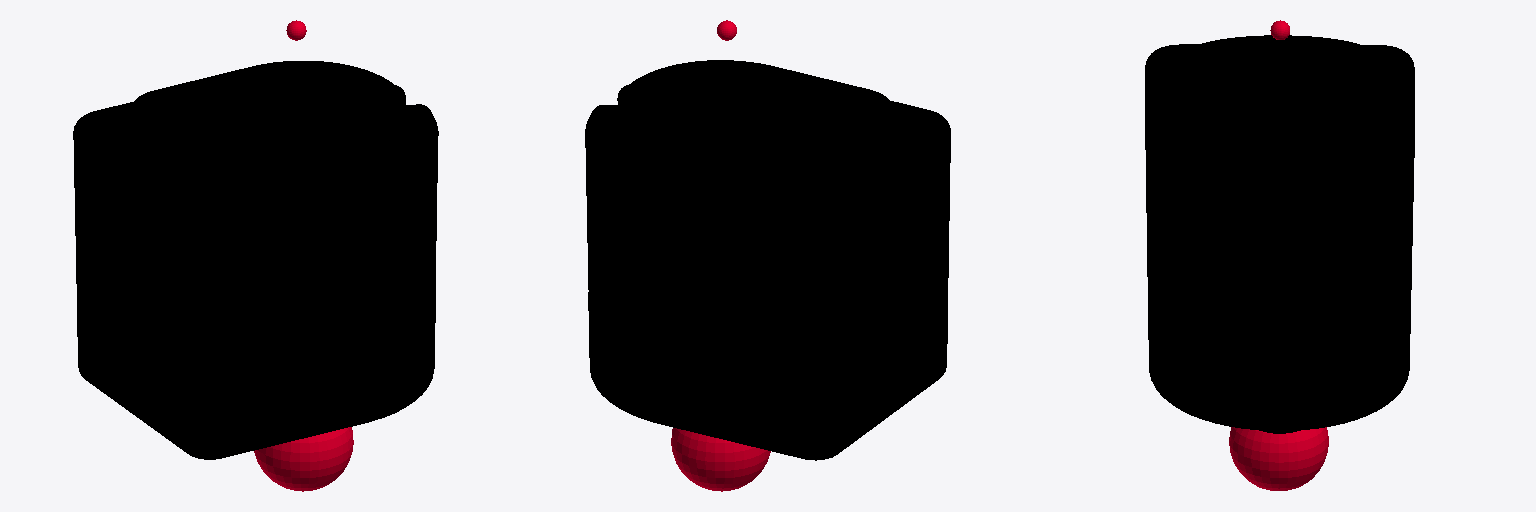
The robot description file, URDF, robot "lbr_iiwa":
<?xml version="1.0" ?>
<!-- ======================================================================= -->
<!-- | This document was autogenerated by xacro from lbr_iiwa.urdf.xacro   | -->
<!-- | Original xacro: https://github.com/rtkg/lbr_iiwa/archive/master.zip | -->
<!-- | EDITING THIS FILE BY HAND IS NOT RECOMMENDED                        | -->
<!-- | Changes ([author]):                                                 | -->
<!-- |   * Removed gazebo tags.                                            | -->
<!-- |   * Removed unused materials.                                       | -->
<!-- |   * Made mesh paths relative.                                       | -->
<!-- |   * Removed material fields from collision segments.                | -->
<!-- |   * Removed the self_collision_checking segment.                    | -->
<!-- |   * Removed transmission segments, since they didn't match the      | -->
<!-- |     convention, will have to added back later.                      | -->
<!-- ======================================================================= -->
<!--LICENSE:                                                                 -->
<!--Copyright (c) 2015, [author] & [author], AASS Research Center,  -->
<!--Orebro University, Sweden                                                -->
<!--All rights reserved.                                                     -->
<!--                                                                         -->
<!--Redistribution and use in source and binary forms, with or without       -->
<!--modification, are permitted provided that the following conditions are   -->
<!--met:                                                                     -->
<!--                                                                         -->
<!--1. Redistributions of source code must retain the above copyright notice,-->
<!--   this list of conditions and the following disclaimer.                 -->
<!--                                                                         -->
<!--2. Redistributions in binary form must reproduce the above copyright     -->
<!--   notice, this list of conditions and the following disclaimer in the   -->
<!--   documentation and/or other materials provided with the distribution.  -->
<!--                                                                         -->
<!--THIS SOFTWARE IS PROVIDED BY THE COPYRIGHT [author] "AS  -->
<!--IS" AND ANY EXPRESS OR IMPLIED WARRANTIES, INCLUDING, BUT NOT LIMITED TO,-->
<!--THE IMPLIED WARRANTIES OF MERCHANTABILITY AND FITNESS FOR A PARTICULAR   -->
<!--PURPOSE ARE DISCLAIMED. IN NO EVENT SHALL THE COPYRIGHT [author]        -->
<!--CONTRIBUTORS BE LIABLE FOR ANY DIRECT, INDIRECT, INCIDENTAL, SPECIAL,    -->
<!--EXEMPLARY, OR CONSEQUENTIAL DAMAGES (INCLUDING, BUT NOT LIMITED TO,      -->
<!--PROCUREMENT OF SUBSTITUTE GOODS OR SERVICES; LOSS OF USE, DATA, OR       -->
<!--PROFITS; OR BUSINESS INTERRUPTION) HOWEVER CAUSED AND ON ANY THEORY OF   -->
<!--LIABILITY, WHETHER IN CONTRACT, STRICT LIABILITY, OR TORT (INCLUDING     -->
<!--NEGLIGENCE OR OTHERWISE) ARISING IN ANY WAY OUT OF THE USE OF THIS       -->
<!--SOFTWARE, EVEN IF ADVISED OF THE POSSIBILITY OF SUCH DAMAGE.             -->

<robot name="lbr_iiwa" xmlns:xacro="http://www.ros.org/wiki/xacro">

  <!-- Import Rviz colors -->
  <material name="Grey">
    <color rgba="0.2 0.2 0.2 1.0"/>
  </material>
  <material name="Orange">
    <color rgba="1.0 0.423529411765 0.0392156862745 1.0"/>
  </material>
  <material name="Blue">
  <color rgba="0.5 0.7 1.0 1.0"/>
</material>
<material name="TransparentRed">
  <color rgba="0.9 0 0.2 0.5"/>
</material>

<link name="world"/>
<joint name="world_joint" type="fixed">
  <parent link="world"/>
  <child link="base_link"/>
  <origin rpy="0.0 0.0 0.0" xyz="0.0 0.0 0.0"/>
</joint>


  <link name="base_link">
    <inertial>
      <origin rpy="0 0 0" xyz="-0.1 0 0.07"/>
      <mass value="0.0"/>
      <inertia ixx="0.05" ixy="0" ixz="0" iyy="0.06" iyz="0" izz="0.03"/>
    </inertial>
    <visual>
      <origin rpy="0 0 0" xyz="0 0 0"/>
      <geometry>
        <mesh filename="meshes/link_0.obj"/>
      </geometry>
      <material name="Grey"/>
    </visual>
    <collision>
      <origin rpy="0 0 0" xyz="0 0 0"/>
      <geometry>
        <mesh filename="meshes/link_0.stl"/>
      </geometry>
    </collision>
  </link>

  <!-- joint between link_0 and link_1 -->
  <joint name="lbr_iiwa_joint_1" type="revolute">
    <parent link="base_link"/>
    <child link="lbr_iiwa_link_1"/>
    <origin rpy="0 0 0" xyz="0 0 0.1575"/>
    <axis xyz="0 0 1"/>
    <limit effort="300" lower="-100" upper="100" velocity="10"/>
    <dynamics damping="0.5"/>
  </joint>

  <link name="lbr_iiwa_link_1">
    <inertial>
      <origin rpy="0 0 0" xyz="0 -0.03 0.12"/>
      <mass value="4"/>
      <inertia ixx="0.1" ixy="0" ixz="0" iyy="0.09" iyz="0" izz="0.02"/>
    </inertial>
    <visual>
      <origin rpy="0 0 0" xyz="0 0 0"/>
      <geometry>
        <mesh filename="meshes/link_1.obj"/>
      </geometry>
      <material name="Blue"/>
    </visual>
    <collision>
      <origin rpy="0 0 0" xyz="0 0 0"/>
      <geometry>
        <mesh filename="meshes/link_1.stl"/>
      </geometry>
    </collision>
  </link>

  <!-- joint between link_1 and link_2 -->
  <joint name="lbr_iiwa_joint_2" type="revolute">
    <parent link="lbr_iiwa_link_1"/>
    <child link="lbr_iiwa_link_2"/>
    <origin rpy="1.57079632679   0 3.14159265359" xyz="0 0 0.2025"/>
    <axis xyz="0 0 1"/>
    <limit effort="300" lower="-100" upper="100" velocity="10"/>
    <dynamics damping="0.5"/>
  </joint>

  <link name="lbr_iiwa_link_2">
    <inertial>
      <origin rpy="0 0 0" xyz="0.0003 0.059 0.042"/>
      <mass value="4"/>
      <inertia ixx="0.05" ixy="0" ixz="0" iyy="0.018" iyz="0" izz="0.044"/>
    </inertial>
    <visual>
      <origin rpy="0 0 0" xyz="0 0 0"/>
      <geometry>
        <mesh filename="meshes/link_2.obj"/>
      </geometry>
      <material name="Blue"/>
    </visual>
    <collision>
      <origin rpy="0 0 0" xyz="0 0 0"/>
      <geometry>
        <mesh filename="meshes/link_2.stl"/>
      </geometry>
    </collision>
  </link>

  <!-- joint between link_2 and link_3 -->
  <joint name="lbr_iiwa_joint_3" type="revolute">
    <parent link="lbr_iiwa_link_2"/>
    <child link="lbr_iiwa_link_3"/>
    <origin rpy="1.57079632679 0 3.14159265359" xyz="0 0.2045 0"/>
    <axis xyz="0 0 1"/>
    <limit effort="300" lower="-100" upper="100" velocity="10"/>
    <dynamics damping="0.5"/>
  </joint>

  <link name="lbr_iiwa_link_3">
    <inertial>
      <origin rpy="0 0 0" xyz="0 0.03 0.13"/>
      <mass value="3"/>
      <inertia ixx="0.08" ixy="0" ixz="0" iyy="0.075" iyz="0" izz="0.01"/>
    </inertial>
    <visual>
      <origin rpy="0 0 0" xyz="0 0 0"/>
      <geometry>
        <mesh filename="meshes/link_3.obj"/>
      </geometry>
      <material name="Orange"/>
    </visual>
    <collision>
      <origin rpy="0 0 0" xyz="0 0 0"/>
      <geometry>
        <mesh filename="meshes/link_3.stl"/>
      </geometry>
    </collision>
  </link>

  <!-- joint between link_3 and link_4 -->
  <joint name="lbr_iiwa_joint_4" type="revolute">
    <parent link="lbr_iiwa_link_3"/>
    <child link="lbr_iiwa_link_4"/>
    <origin rpy="1.57079632679 0 0" xyz="0 0 0.2155"/>
    <axis xyz="0 0 1"/>
    <limit effort="300" lower="-100" upper="100" velocity="10"/>
    <dynamics damping="0.5"/>
  </joint>

  <link name="lbr_iiwa_link_4">
    <inertial>
      <origin rpy="0 0 0" xyz="0 0.067 0.034"/>
      <mass value="2.7"/>
      <inertia ixx="0.03" ixy="0" ixz="0" iyy="0.01" iyz="0" izz="0.029"/>
    </inertial>
    <visual>
      <origin rpy="0 0 0" xyz="0 0 0"/>
      <geometry>
        <mesh filename="meshes/link_4.obj"/>
      </geometry>
      <material name="Blue"/>
    </visual>
    <collision>
      <origin rpy="0 0 0" xyz="0 0 0"/>
      <geometry>
        <mesh filename="meshes/link_4.stl"/>
      </geometry>
    </collision>
  </link>

  <!-- joint between link_4 and link_5 -->
  <joint name="lbr_iiwa_joint_5" type="revolute">
    <parent link="lbr_iiwa_link_4"/>
    <child link="lbr_iiwa_link_5"/>
    <origin rpy="-1.57079632679 3.14159265359 0" xyz="0 0.1845 0"/>
    <axis xyz="0 0 1"/>
    <limit effort="300" lower="-100" upper="100" velocity="10"/>
    <dynamics damping="0.5"/>
  </joint>

  <link name="lbr_iiwa_link_5">
    <inertial>
      <origin rpy="0 0 0" xyz="0.0001 0.021 0.076"/>
      <mass value="1.7"/>
      <inertia ixx="0.02" ixy="0" ixz="0" iyy="0.018" iyz="0" izz="0.005"/>
    </inertial>
    <visual>
      <origin rpy="0 0 0" xyz="0 0 0"/>
      <geometry>
        <mesh filename="meshes/link_5.obj"/>
      </geometry>
      <material name="Blue"/>
    </visual>
    <collision>
      <origin rpy="0 0 0" xyz="0 0 0"/>
      <geometry>
        <mesh filename="meshes/link_5.stl"/>
      </geometry>
    </collision>
  </link>

  <!-- joint between link_5 and link_6 -->
  <joint name="lbr_iiwa_joint_6" type="revolute">
    <parent link="lbr_iiwa_link_5"/>
    <child link="lbr_iiwa_link_6"/>
    <origin rpy="1.57079632679 0 0" xyz="0 0 0.2155"/>
    <axis xyz="0 0 1"/>
    <limit effort="300" lower="-100" upper="100" velocity="10"/>
    <dynamics damping="0.5"/>
  </joint>

  <link name="lbr_iiwa_link_6">
    <inertial>
      <origin rpy="0 0 0" xyz="0 0.0006 0.0004"/>
      <mass value="1.8"/>
      <inertia ixx="0.005" ixy="0" ixz="0" iyy="0.0036" iyz="0" izz="0.0047"/>
    </inertial>
    <visual>
      <origin rpy="0 0 0" xyz="0 0 0"/>
      <geometry>
        <mesh filename="meshes/link_6.obj"/>
      </geometry>
      <material name="Orange"/>
    </visual>
    <collision>
      <origin rpy="0 0 0" xyz="0 0 0"/>
      <geometry>
        <mesh filename="meshes/link_6.stl"/>
      </geometry>
    </collision>
  </link>

  <!-- joint between link_6 and link_7 -->
  <joint name="lbr_iiwa_joint_7" type="revolute">
    <parent link="lbr_iiwa_link_6"/>
    <child link="lbr_iiwa_link_7"/>
    <origin rpy="-1.57079632679 3.14159265359 0" xyz="0 0.081 0"/>
    <axis xyz="0 0 1"/>
    <limit effort="300" lower="-100" upper="100" velocity="10"/>
    <dynamics damping="0.5"/>
  </joint>

  <link name="lbr_iiwa_link_7">
    <inertial>
      <origin rpy="0 0 0" xyz="0 0 0.02"/>
      <mass value="0.3"/>
      <inertia ixx="0.001" ixy="0" ixz="0" iyy="0.001" iyz="0" izz="0.001"/>
    </inertial>
    <visual>
      <origin rpy="0 0 0" xyz="0 0 0"/>
      <geometry>
        <mesh filename="meshes/link_7.obj"/>
      </geometry>
      <material name="Grey"/>
    </visual>
    <collision>
      <origin rpy="0 0 0" xyz="0 0 0"/>
      <geometry>
        <mesh filename="meshes/link_7.stl"/>
      </geometry>
    </collision>
  </link>


  <!-- End Effector -->

  <joint name="ee_joint" type="fixed">
    <parent link="lbr_iiwa_link_7"/>
    <child link="ee_link"/>
    <origin rpy="3.14 0.0 0.0" xyz="0.0 0.0 0.04"/>
  </joint>

  <link name="ee_link">
    <visual>
      <origin rpy="0 0 0" xyz="0 0 0"/>
      <geometry>
        <sphere radius="0.005"/>
      </geometry>
       <material name="TransparentRed"/>
    </visual>
    <collision>
      <geometry>
        <sphere radius="0.001"/>
      </geometry>
      <origin rpy="0 0 0" xyz="0.0 0 0"/>
    </collision>
    <inertial>
      <mass value="0.0"/>
      <origin rpy="-3.14 0.0 1.57" xyz="0.0 0.0 0.0"/>
      <inertia ixx="0.001" ixy="0.0" ixz="0.0" iyy="0.001" iyz="0.0" izz="0.001"/>
    </inertial>
  </link>

  <!-- DigiTac -->
  <link
    name="digitac_body_link">
  <inertial>
      <origin
        xyz="0.0044483897843889 -0.0137570316187898 -1.33478473442024E-08+0.035"
        rpy="0 0 0" />
      <mass
        value="0.00791827593084163" />
      <inertia
        ixx="7.86145751817283E-07"
        ixy="-4.85149902505629E-09"
        ixz="4.89421524982813E-12"
        iyy="1.59818901807298E-06"
        iyz="-2.18755873901251E-12"
        izz="1.06961344577448E-06" />
    </inertial>
    <visual>
      <origin
        xyz="0 0 0.035"
        rpy="0 0 0" />
      <geometry>
        <mesh
          filename="../digitac/standard_digitac/digitac_asmb/meshes/digitac_body.STL" />
      </geometry>
      <material
        name="body color">
        <color
          rgba="0.0 0.0 0.0 1" />
      </material>
    </visual>
    <collision>
      <origin
        xyz="0 0 0.035"
        rpy="0 0 0" />
      <geometry>
        <mesh
          filename="../digitac/standard_digitac/digitac_asmb/meshes/digitac_body.STL" />
      </geometry>
    </collision>
  </link>


  <joint name="digitac_ee_joint" type="fixed">
    <parent link="ee_link"/>
    <child link="digitac_body_link"/>
    <origin rpy="-3.14 0.0 3.14" xyz="0.0 0.0 0.0"/>
  </joint>


  <link
    name="digitac_tip_link">


        <inertial>
      <origin
        xyz="1.95689617055233E-05 -0.00418318281817305 -0.00513072481258713-0.035"
        rpy="0 0 0" />
      <mass
        value="0.000211579321175967" />
      <inertia
        ixx="1.6421406108058E-08"
        ixy="-3.59682768116548E-11"
        ixz="8.26721658003392E-12"
        iyy="1.10821033019274E-08"
        iyz="-1.94916165896316E-10"
        izz="2.23470337659004E-08" />
    </inertial>
    <visual>
      <origin
        xyz="0 0 -0.035"
        rpy="0 0 0" />
      <geometry>
        <mesh
          filename="../digitac/standard_digitac/digitac_asmb_hollow/meshes/digitac_core.STL" />
      </geometry>
      <material
        name="digitac_skin">
        <color
          rgba="1.0 1.0 1.0 1" />
      </material>
    </visual>
    <collision>
      <origin
        xyz="0 0 -0.035"
        rpy="0 0 0" />
      <geometry>
        <mesh
          filename="../digitac/standard_digitac/digitac_asmb/meshes/digitac_core.STL" />
      </geometry>
    </collision>
  </link>


  <joint
    name="tactip_tip_to_body"
    type="fixed">
    <origin
      xyz="0 0 0"
      rpy="3.14159265358979 0 -1.5707963267949" />
    <parent
      link="digitac_body_link" />
    <child
      link="digitac_tip_link" />
    <axis
      xyz="0 0 0" />
  </joint>


  <!-- TCP -->
  <link name="tcp_link">
    <visual>
      <origin rpy="0 0 0" xyz="0 0 0"/>
      <geometry>
        <sphere radius="0.001"/>
      </geometry>
       <material name="TransparentRed"/>
    </visual>
    <inertial>
      <mass value="0.0"/>
      <origin rpy="0.0 0.0 1.57" xyz="0.0 0.0 0.0"/>
      <inertia ixx="1.0" ixy="0.0" ixz="0.0" iyy="1.0" iyz="0.0" izz="1.0"/>
    </inertial>
  </link>

  <joint name="tcp_joint" type="fixed">
    <parent link="digitac_body_link"/>
    <child link="tcp_link"/>
    <origin rpy="0 0 0" xyz="0.0007 0.0 0.045"/>
  </joint>

</robot>

--- Render facts (derived) ---
The picture shows the robot from 3 angles, left to right: view 1: azimuth 30°, elevation 25°; view 2: azimuth 150°, elevation 25°; view 3: azimuth 270°, elevation 25°; orthographic projection.
Robot: lbr_iiwa — 13 links, 12 joints (7 revolute, 5 fixed); root link world; default pose: every joint at zero.
Visible links, largest first — view 1: digitac_body_link, ee_link; view 2: digitac_body_link, ee_link; view 3: digitac_body_link, ee_link.
Boxes of the visible links, bbox=[...] form: digitac_body_link: bbox=[73, 61, 438, 459]; ee_link: bbox=[254, 427, 353, 491]; digitac_body_link: bbox=[585, 60, 950, 460]; ee_link: bbox=[671, 428, 770, 491]; digitac_body_link: bbox=[1145, 35, 1414, 433]; ee_link: bbox=[1229, 427, 1328, 490].
Size in the robot's own frame: 0.0341 by 0.027 by 0.051 metres.
Meshes: 10 distinct files referenced, 1 mesh visuals loaded (1 binary STL); not drawn: 9 (reference not matched to a file when rendering).